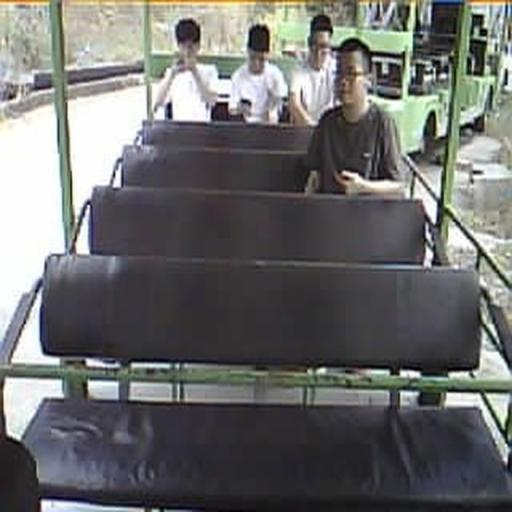persona: (303, 38, 408, 198), (152, 17, 220, 122), (227, 23, 289, 124), (289, 14, 341, 126)
